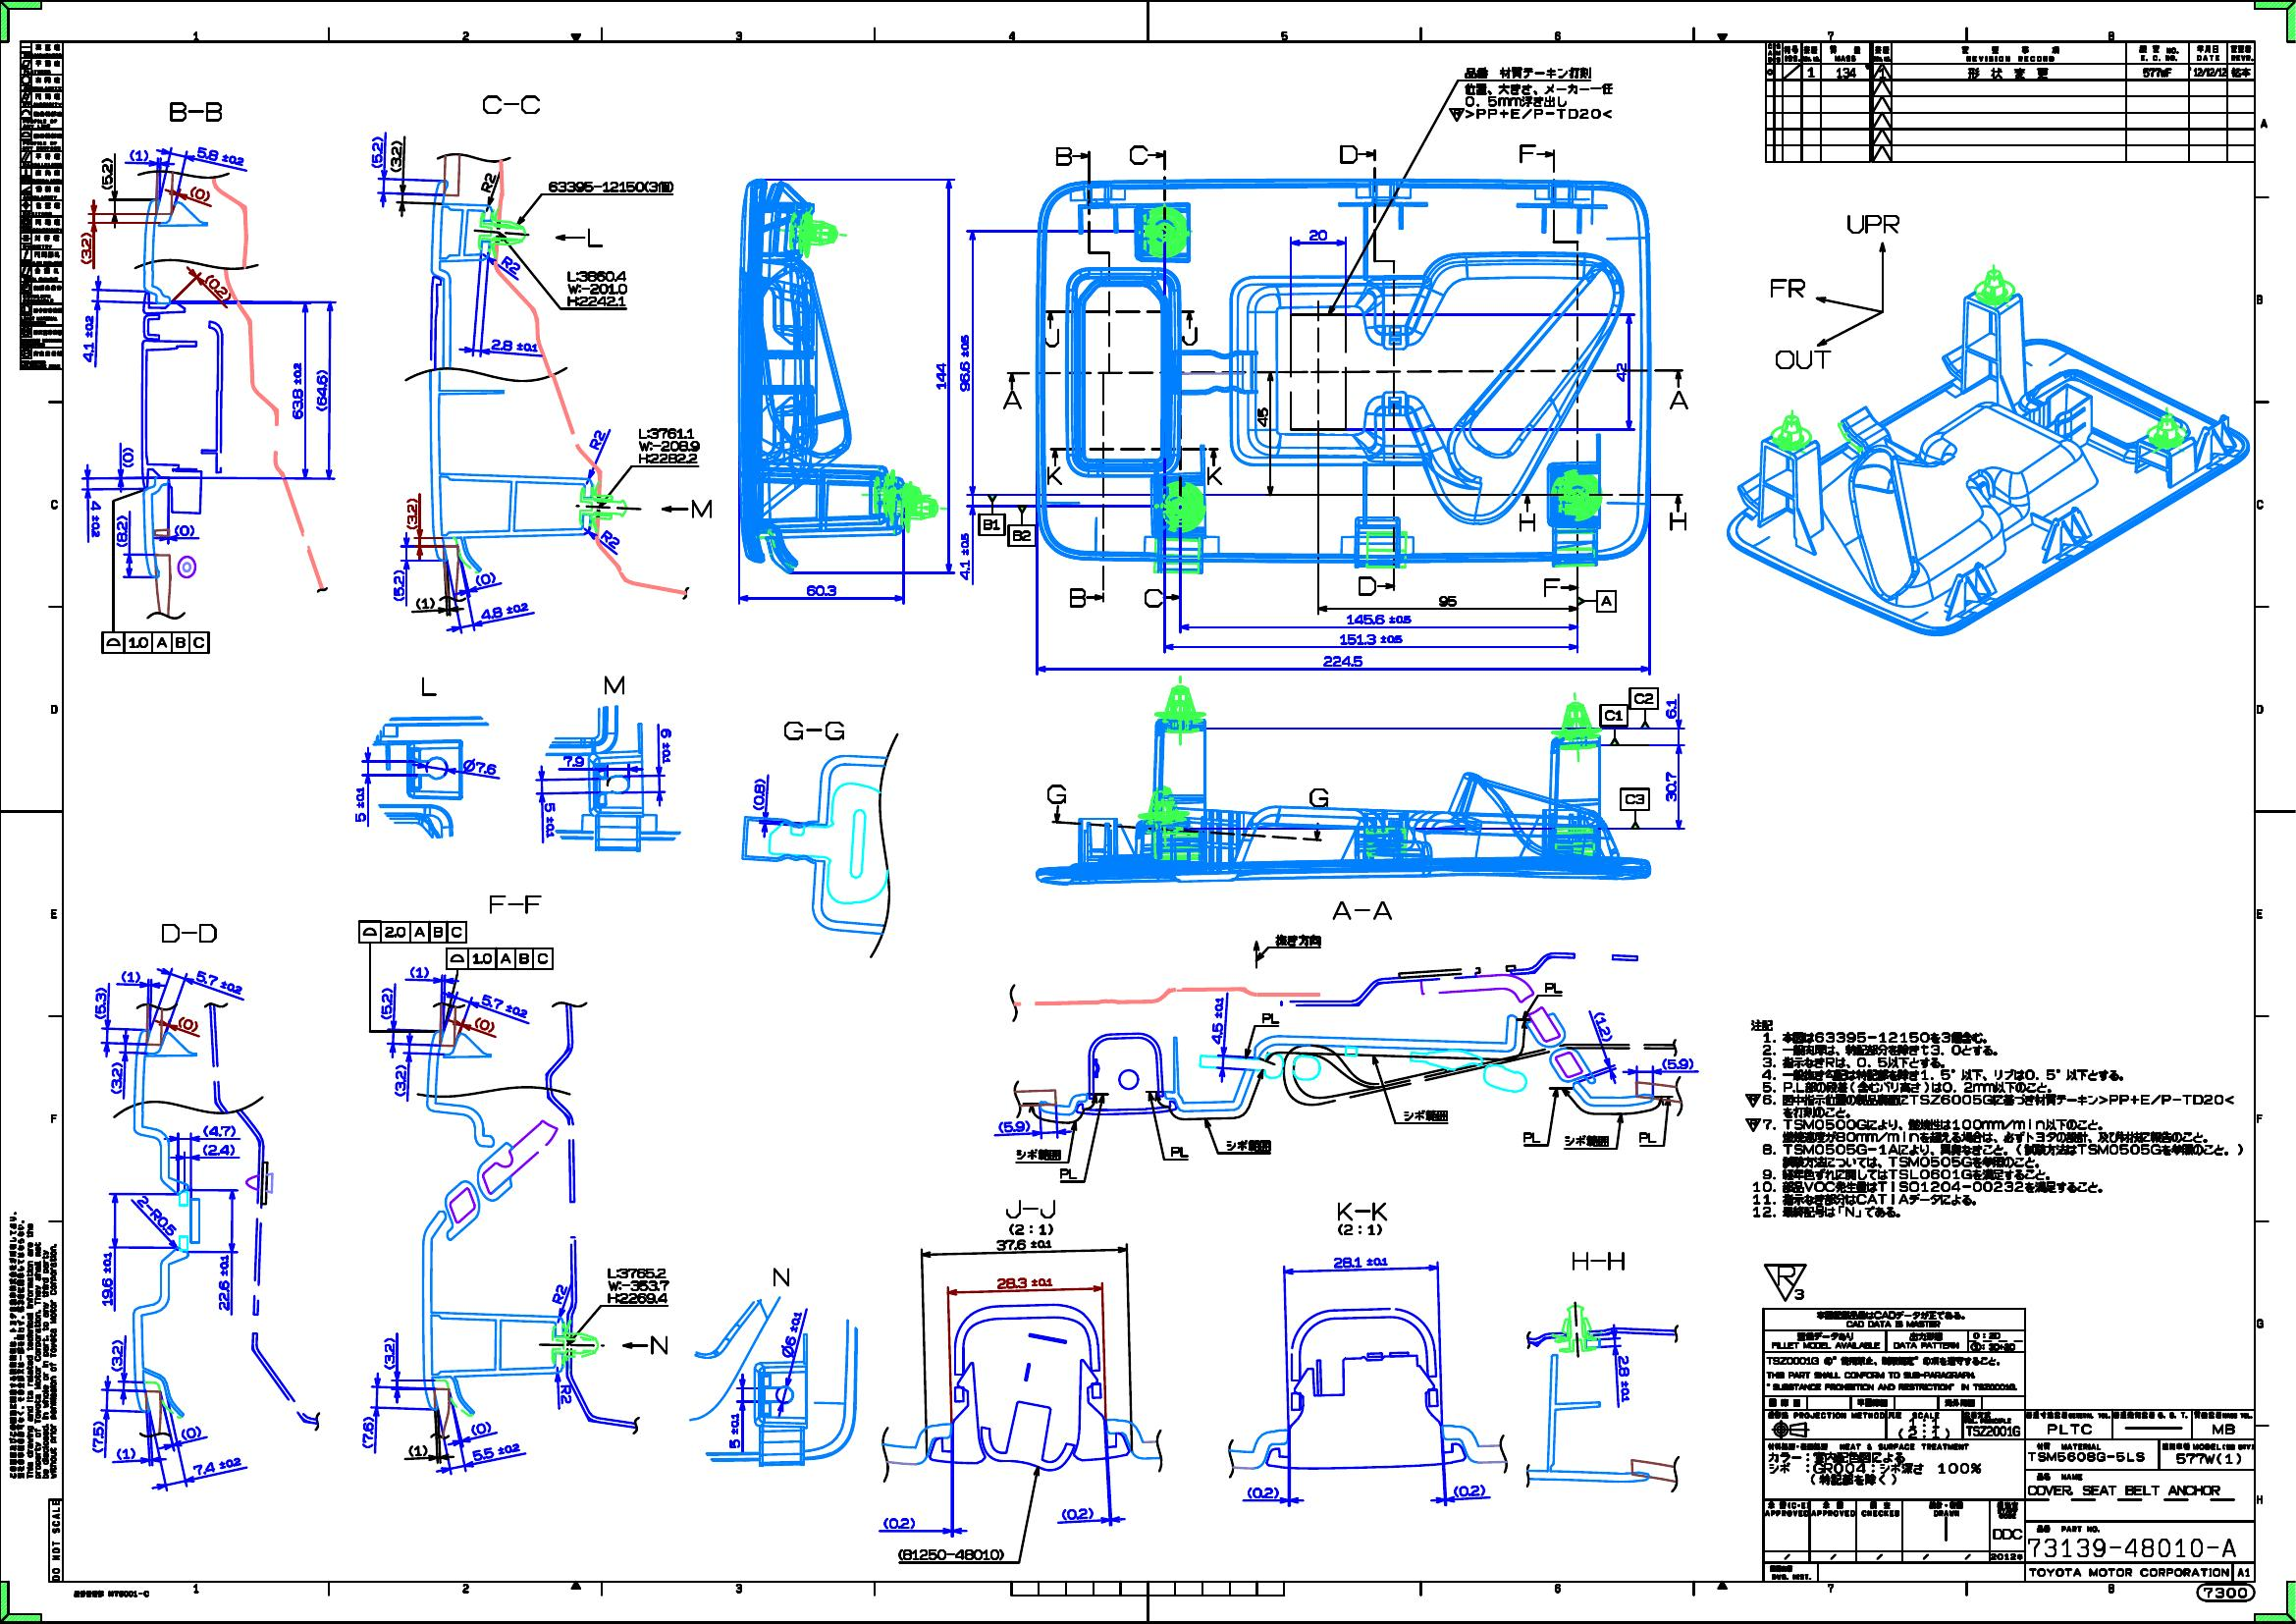anntotation_text: (1744, 1018, 2243, 1218), (7, 1209, 56, 1480), (1463, 65, 1613, 95), (1448, 107, 1614, 123), (358, 919, 466, 942), (444, 947, 553, 968), (102, 631, 209, 652), (1005, 1199, 1056, 1237), (1335, 1200, 1388, 1236), (1764, 1260, 1808, 1302), (896, 1547, 1005, 1561), (546, 181, 675, 192), (782, 719, 845, 740), (488, 893, 541, 917), (1330, 900, 1391, 921), (2194, 1582, 2256, 1603), (481, 93, 541, 114), (1774, 350, 1830, 371), (162, 923, 218, 944), (1846, 214, 1901, 236), (1569, 1251, 1625, 1271), (169, 102, 221, 121), (70, 1587, 151, 1598), (1769, 278, 1806, 299), (1274, 933, 1321, 947), (1224, 1137, 1272, 1151), (1015, 1148, 1059, 1162), (1008, 524, 1035, 547), (1620, 789, 1650, 808), (1665, 388, 1690, 411), (1563, 1134, 1609, 1146), (978, 513, 1005, 534), (1630, 687, 1657, 708), (1600, 705, 1627, 726), (1404, 1109, 1448, 1121), (603, 675, 625, 696), (1045, 784, 1066, 805), (690, 499, 711, 518), (1128, 144, 1147, 165), (1001, 390, 1022, 410), (1142, 589, 1163, 608), (1358, 575, 1377, 596), (1597, 591, 1616, 612), (1667, 510, 1686, 531), (1309, 786, 1328, 807), (648, 1334, 668, 1355), (1339, 144, 1358, 163), (587, 227, 604, 248), (1180, 325, 1198, 346), (1068, 587, 1086, 608), (1542, 576, 1560, 598), (420, 677, 437, 698), (771, 1267, 789, 1288), (1054, 146, 1072, 165), (1518, 144, 1535, 163), (1518, 513, 1535, 533), (1205, 466, 1223, 485), (1047, 466, 1063, 487), (599, 533, 622, 547), (481, 170, 495, 192), (1045, 329, 1059, 348), (1261, 1011, 1281, 1025), (590, 429, 603, 450), (501, 258, 522, 271), (553, 1283, 566, 1304), (560, 1385, 573, 1404), (1058, 1167, 1077, 1179), (1170, 1146, 1188, 1158), (1544, 982, 1563, 993), (1521, 1132, 1541, 1142), (1637, 1132, 1657, 1142)
dimension_text: (606, 1267, 671, 1304), (564, 269, 627, 306), (638, 427, 699, 464), (1465, 95, 1567, 107), (290, 362, 304, 420), (1339, 633, 1404, 645), (218, 1253, 230, 1311), (994, 1237, 1052, 1250), (996, 1276, 1054, 1288), (1346, 613, 1412, 624), (783, 1309, 798, 1359), (197, 149, 246, 163), (314, 367, 329, 411), (195, 977, 244, 990), (132, 1209, 181, 1222), (471, 1445, 520, 1457), (480, 605, 529, 617), (1210, 995, 1223, 1044), (102, 1251, 112, 1308), (959, 334, 970, 390), (193, 1459, 241, 1471), (1618, 1355, 1630, 1403), (490, 339, 538, 352), (83, 315, 95, 362), (1333, 1257, 1388, 1267), (462, 758, 497, 773), (202, 279, 235, 295), (959, 531, 970, 580), (480, 1000, 529, 1011), (1323, 654, 1363, 666), (90, 499, 102, 538), (379, 986, 393, 1019), (202, 1142, 235, 1156), (806, 584, 838, 598), (79, 232, 93, 264), (114, 515, 128, 547), (95, 986, 107, 1019), (202, 1125, 235, 1137), (91, 1420, 104, 1454), (882, 1517, 915, 1529), (1453, 1483, 1486, 1496), (390, 139, 402, 172), (371, 135, 383, 169), (406, 497, 418, 531), (100, 156, 112, 190), (752, 777, 764, 810), (729, 1411, 740, 1450), (111, 1339, 123, 1371), (383, 1338, 395, 1369), (362, 1417, 374, 1448), (1061, 1508, 1093, 1520), (355, 786, 365, 823), (545, 801, 555, 838), (661, 728, 671, 765), (1597, 1011, 1609, 1042), (998, 1120, 1029, 1132), (393, 1065, 406, 1095), (1660, 1058, 1693, 1069), (111, 1062, 121, 1093), (1247, 1487, 1279, 1497), (393, 569, 404, 601), (1665, 772, 1676, 801), (936, 362, 947, 390), (121, 446, 135, 468), (474, 1018, 495, 1032), (474, 573, 497, 585), (128, 148, 148, 162), (177, 1018, 199, 1030), (119, 970, 141, 982), (174, 524, 195, 536), (179, 1427, 202, 1438), (116, 1446, 135, 1459), (408, 1445, 427, 1457), (471, 1422, 490, 1434), (409, 965, 429, 977), (1256, 406, 1268, 425), (415, 598, 436, 608), (190, 188, 211, 199), (562, 756, 583, 766), (1665, 698, 1676, 719), (1309, 228, 1326, 241), (1439, 594, 1456, 606), (1616, 362, 1627, 381)
object: (1035, 178, 1651, 575), (1725, 260, 2250, 638), (1035, 673, 1651, 886), (429, 153, 687, 599), (1015, 951, 1681, 1116), (420, 1000, 638, 1429), (736, 178, 949, 573), (139, 170, 325, 617), (132, 1002, 318, 1436), (882, 1302, 1159, 1471), (1228, 1308, 1505, 1469), (689, 1295, 857, 1468), (1527, 1301, 1676, 1483), (741, 754, 887, 935), (545, 705, 682, 852), (372, 715, 488, 838)
title_block: (1764, 1308, 2256, 1580), (1765, 40, 2256, 162), (19, 40, 63, 369)
